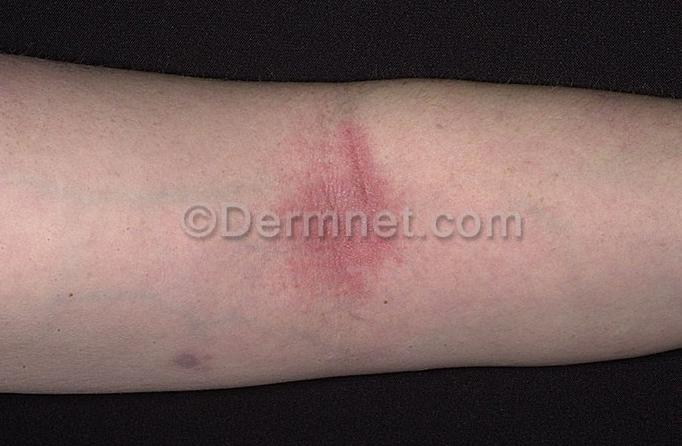Eritema 2: (252, 107, 429, 309)
xerosis 1: (248, 113, 430, 298)
